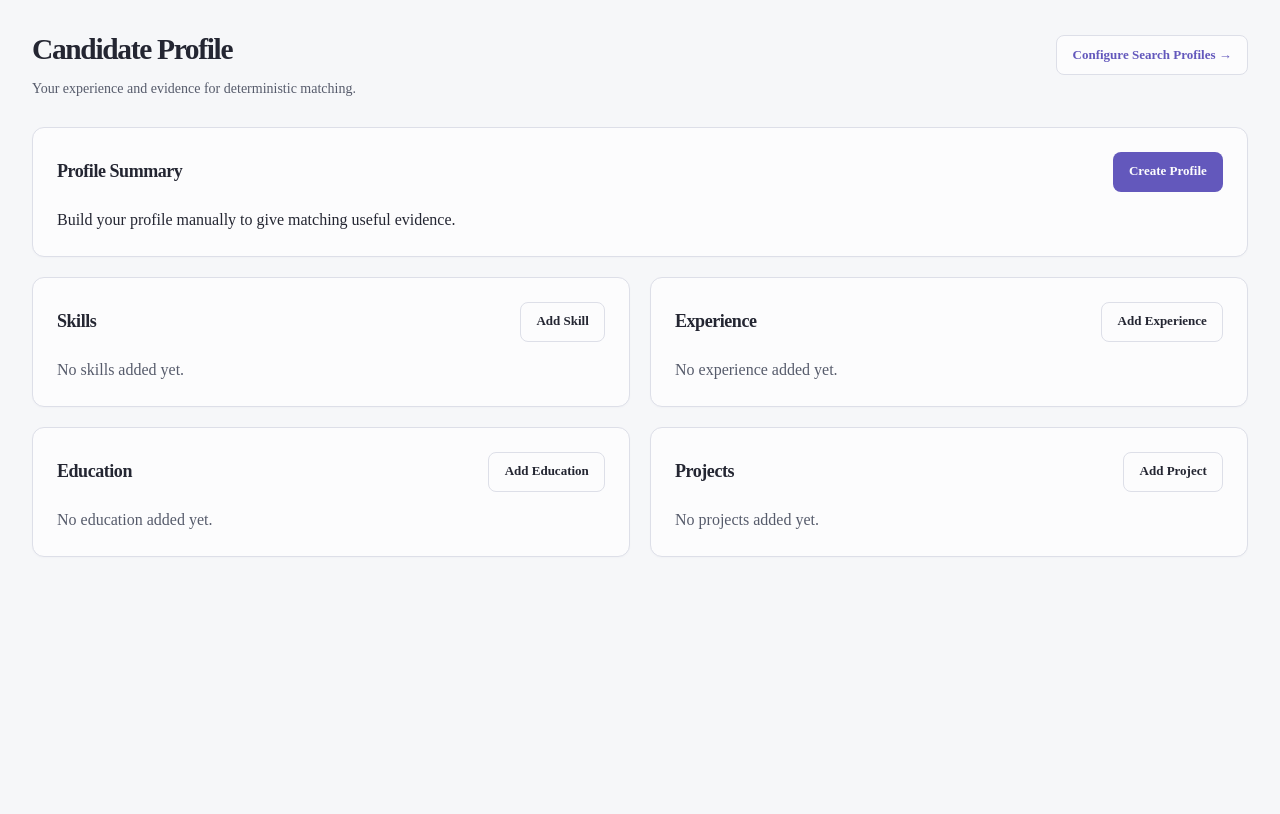
Test: Manual candidate profile › validates date ordering, clears end date for current roles and exposes entry errors
Click the button "Add Experience": (1162, 322) x1=1101 y1=302 x2=1223 y2=342
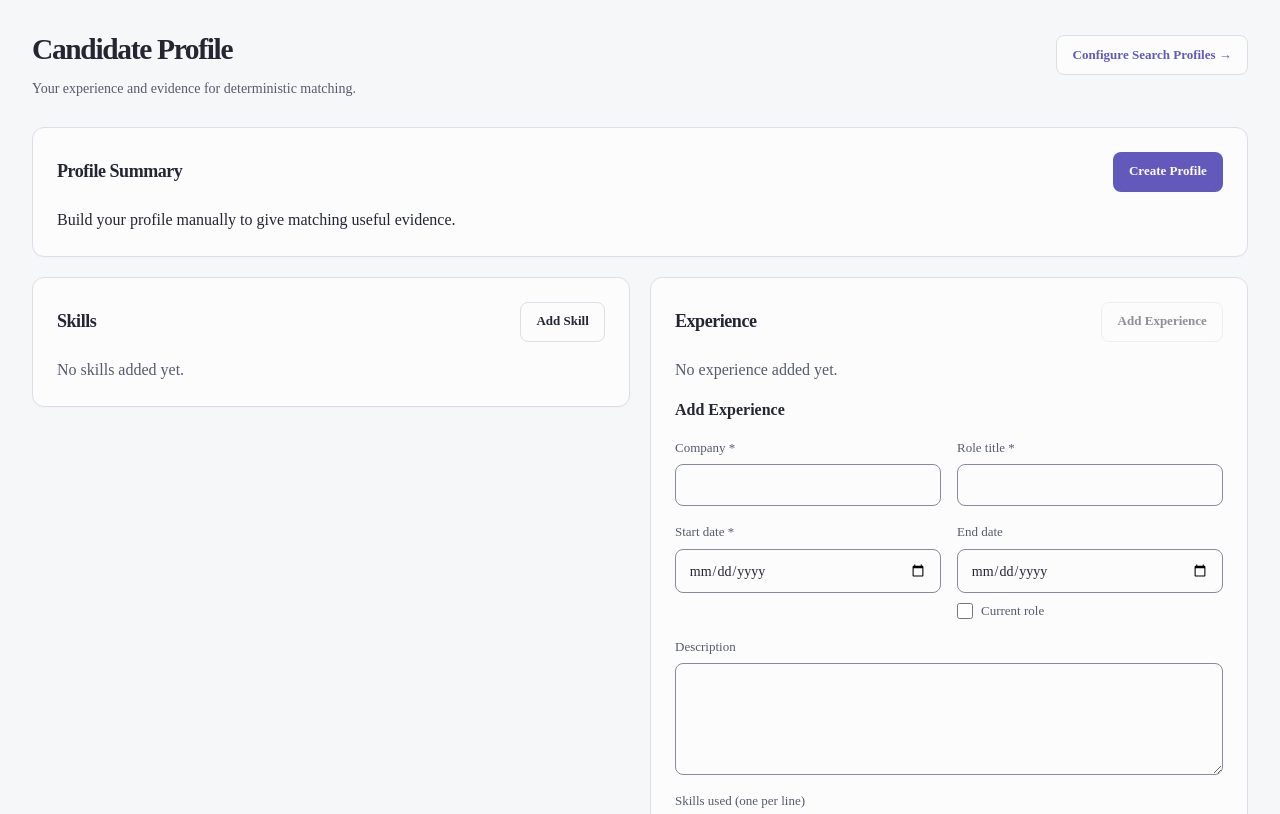
In the field labelled "Company": (808, 485) x1=675 y1=464 x2=941 y2=506, type "Acme"
In the field labelled "Role title": (1090, 485) x1=957 y1=464 x2=1223 y2=506, type "Engineer"
In the date field labelled "Start date": (808, 571) x1=675 y1=549 x2=941 y2=593, type "2022-01-01"
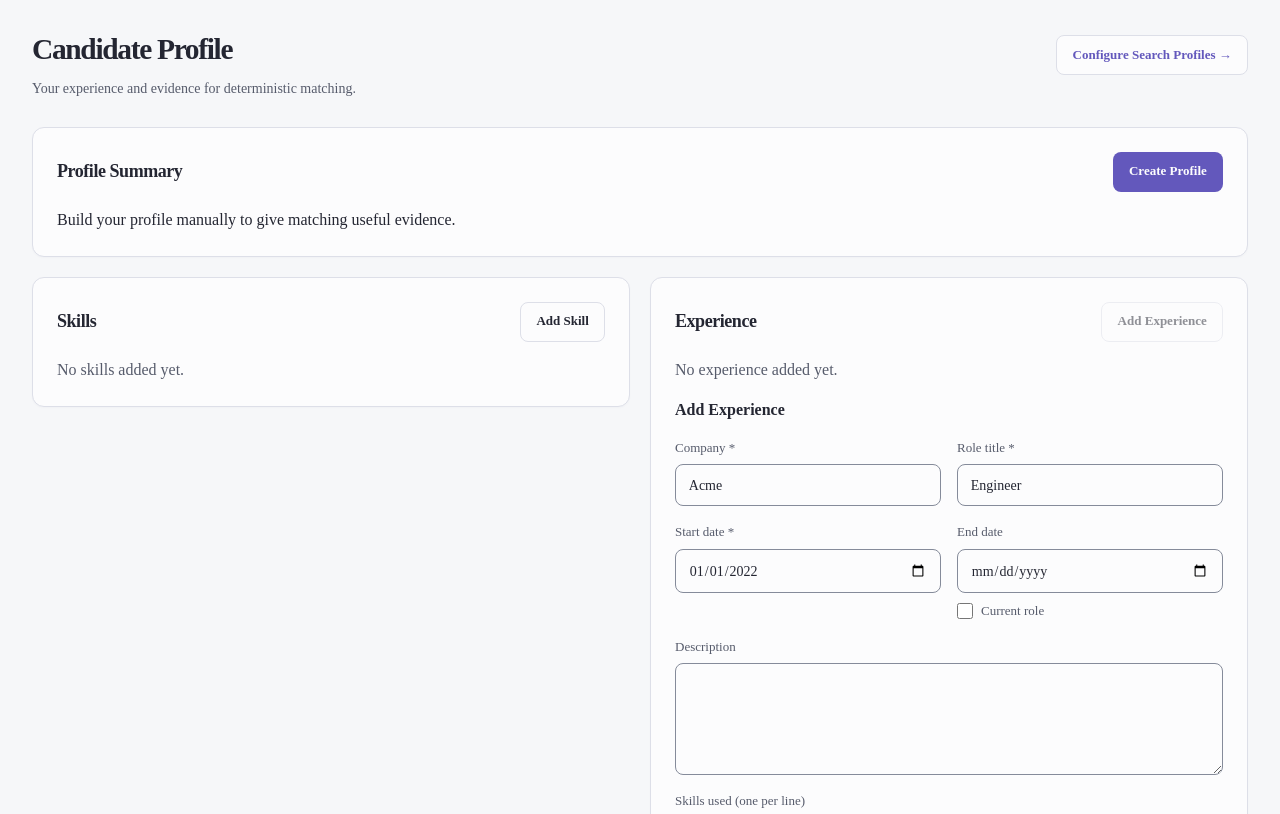
In the date field labelled "End date": (1090, 571) x1=957 y1=549 x2=1223 y2=593, type "2021-01-01"
(page scrolled)
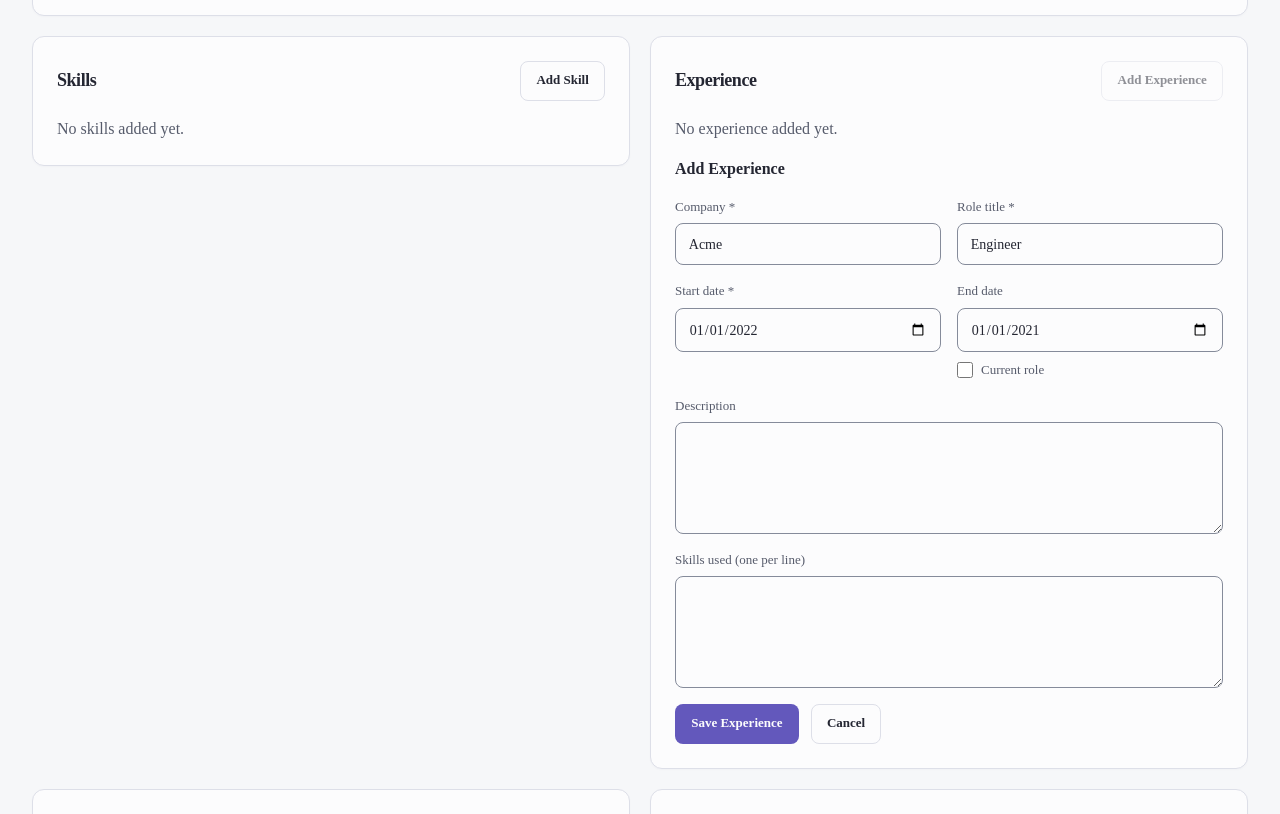
Submit the form named "Experience editor", box x1=675 y1=156 x2=1223 y2=744
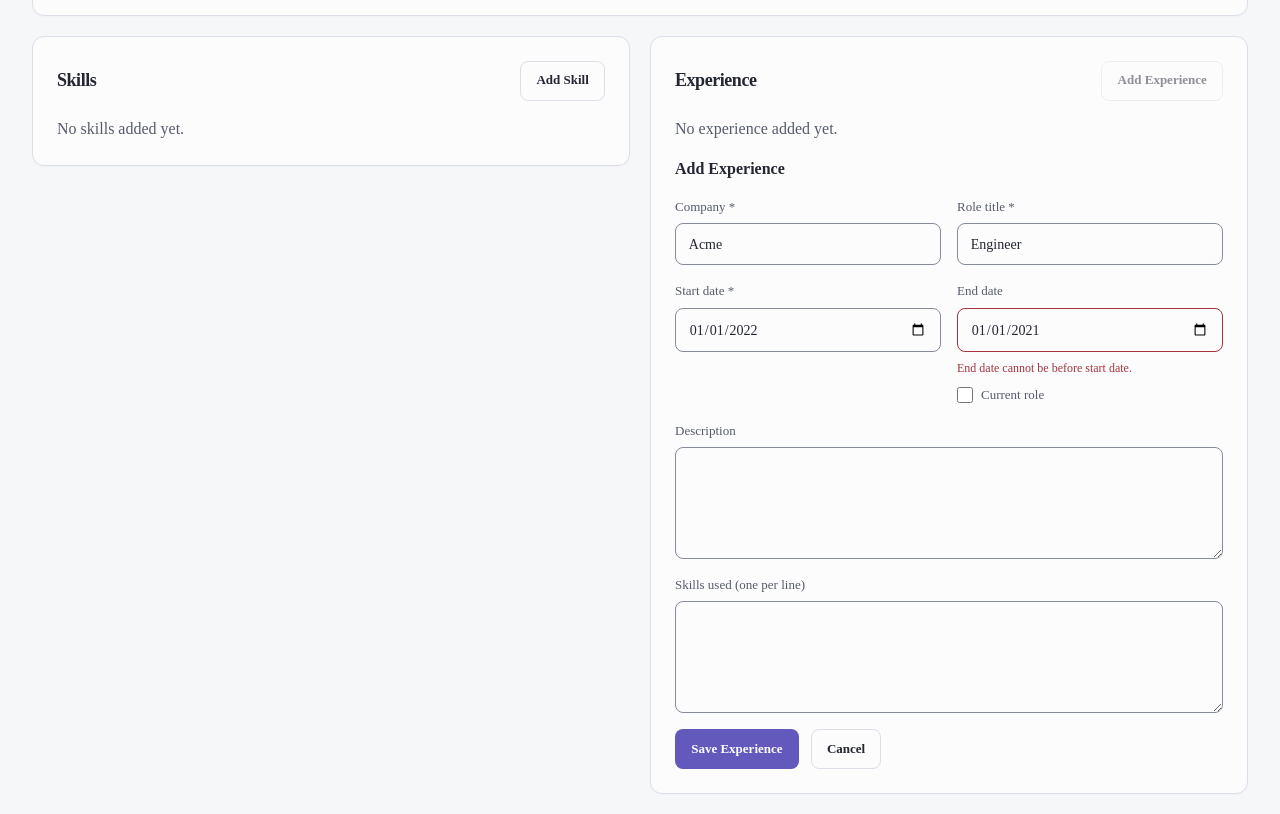
Expected: the text "End date cannot be before start date." is shown, x1=957 y1=361 x2=1132 y2=375
Click the checkbox labelled "Current role": (965, 395) x1=957 y1=387 x2=973 y2=403
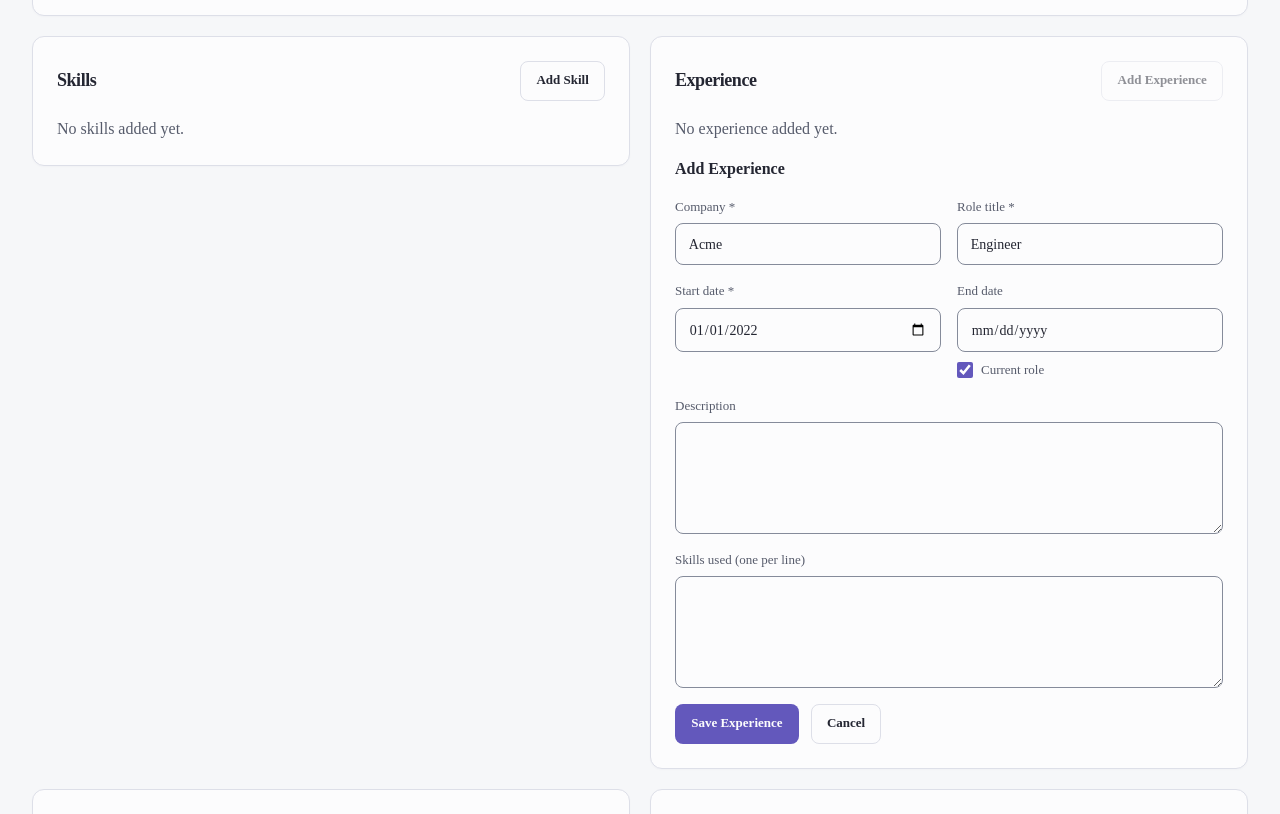
Expected: the date field labelled "End date" is disabled, x1=957 y1=308 x2=1223 y2=352
Submit the form named "Experience editor", box x1=675 y1=156 x2=1223 y2=744
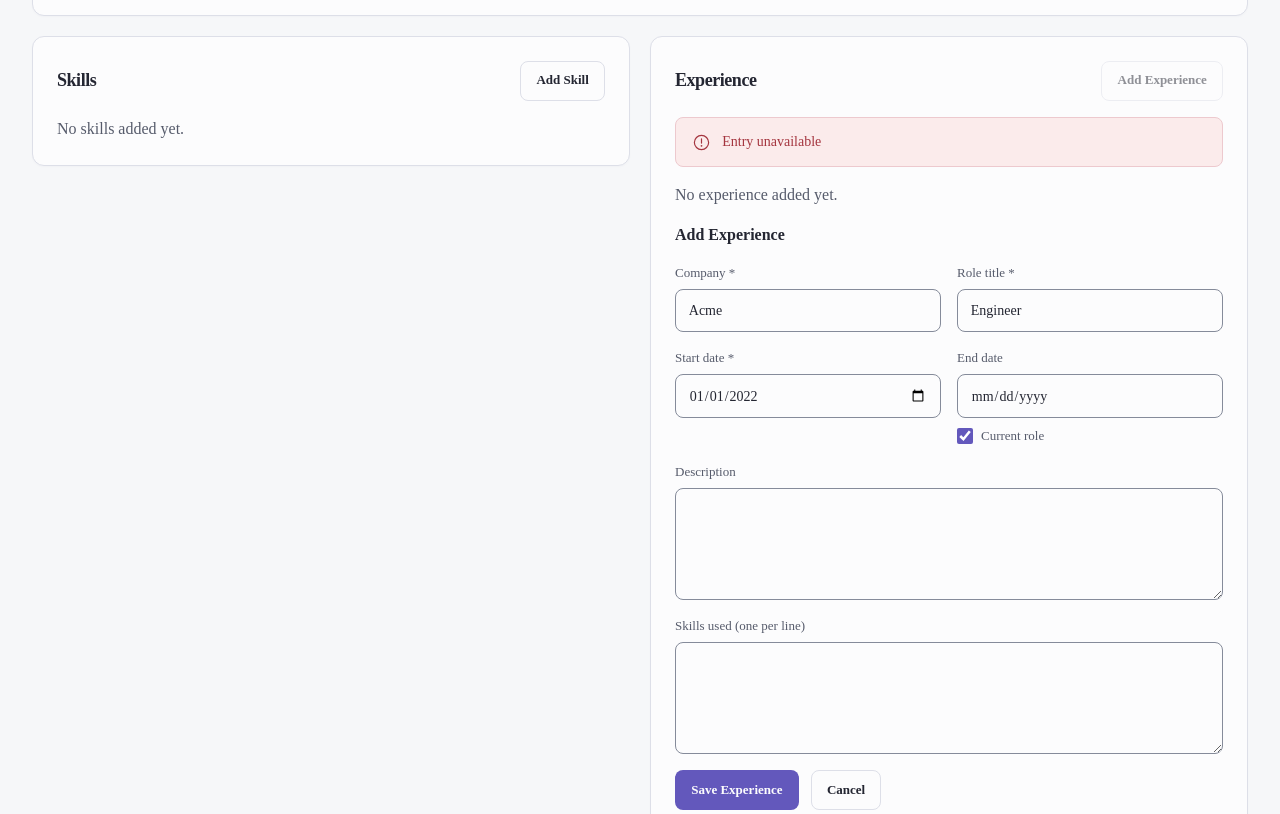
Expected: the text "Entry unavailable" is shown, x1=722 y1=131 x2=821 y2=152
